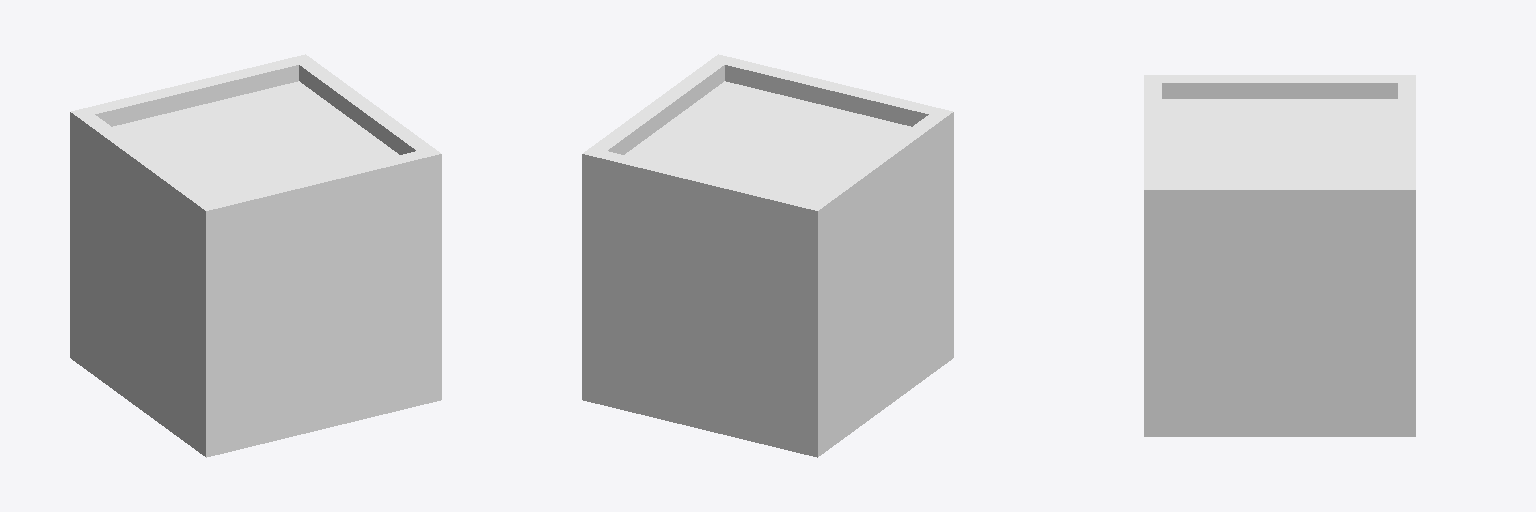
Rendered from AtlanteanWall.obj.
The picture shows the model from 3 angles: view 1: azimuth 30°, elevation 25°; view 2: azimuth 150°, elevation 25°; view 3: azimuth 270°, elevation 25°; orthographic projection.
Size of the model in its own units: 15 by 15 by 15.